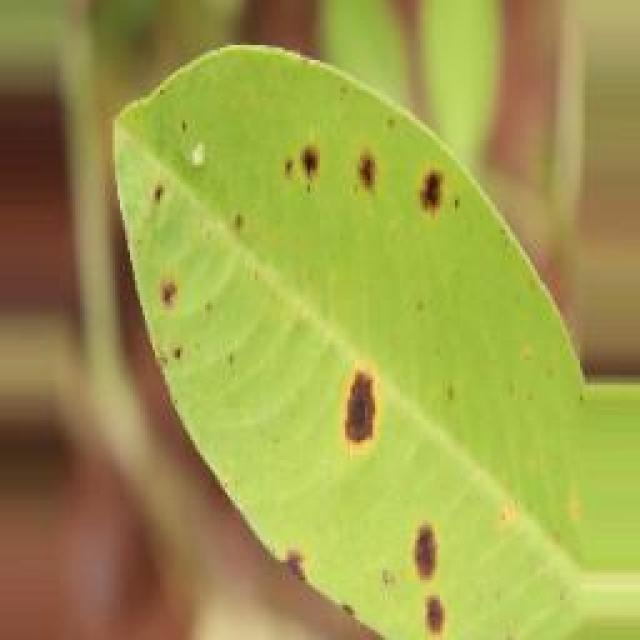Early_leaf_spot: (268, 111, 460, 228), (111, 160, 229, 332), (282, 332, 377, 453), (377, 508, 451, 640), (243, 511, 337, 593)
